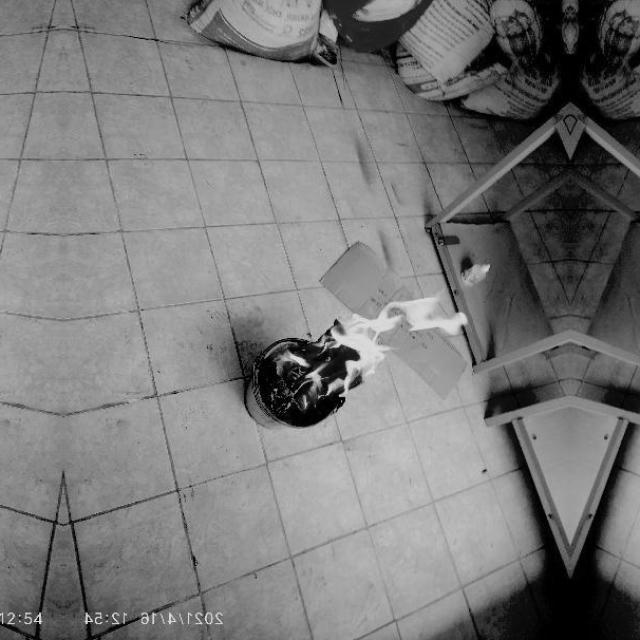smoke: (272, 286, 469, 408)
